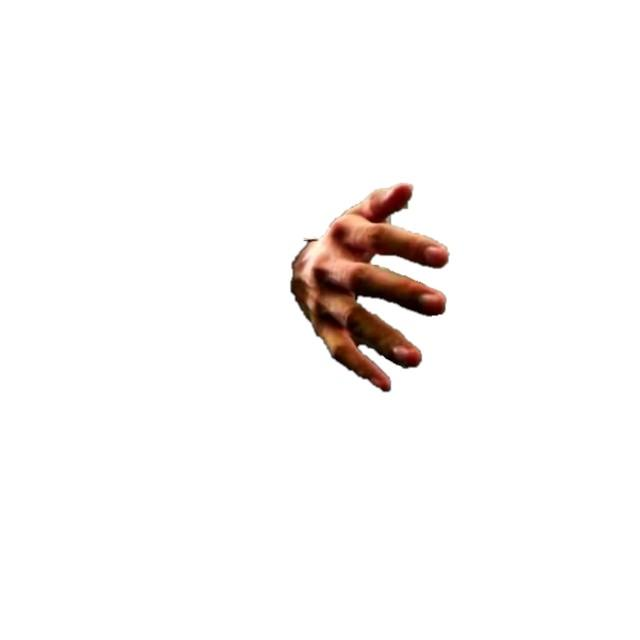pa-: (288, 181, 450, 393)
